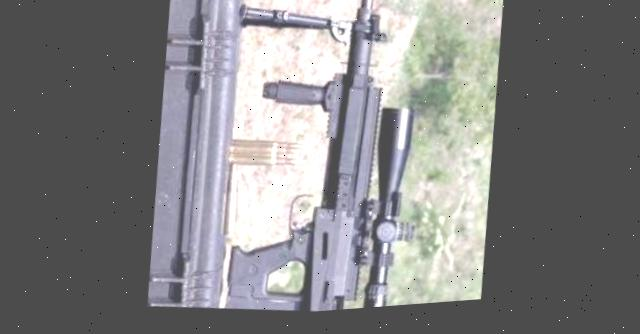rifle: (188, 0, 481, 323)
